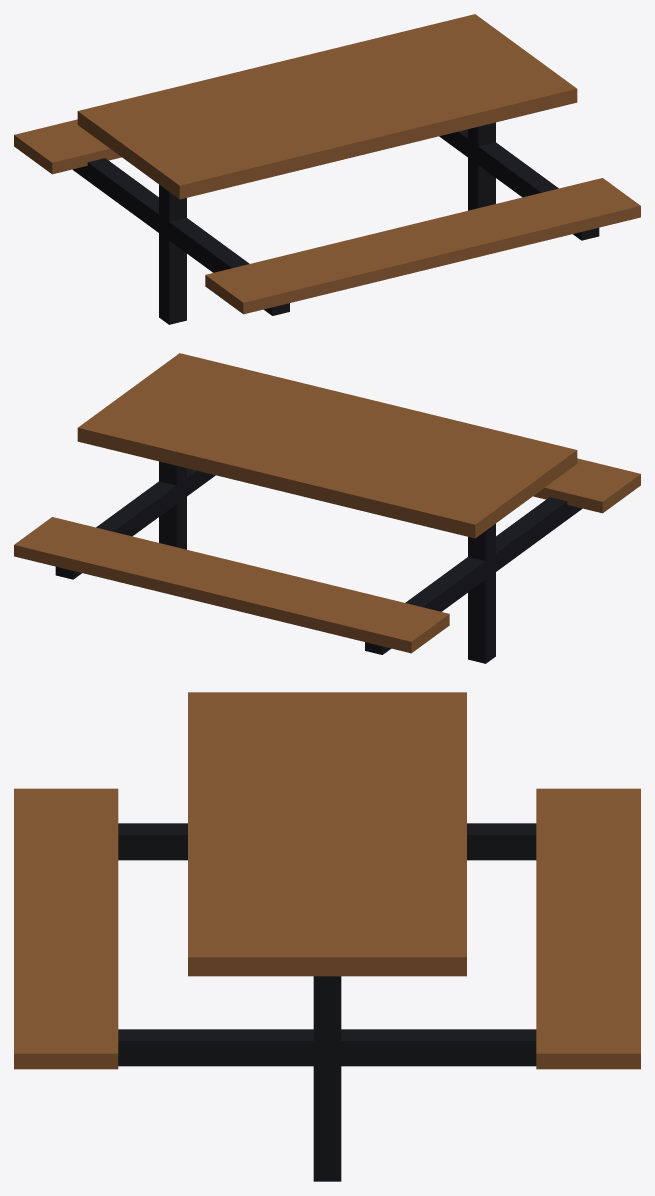
Rendered from prop_picnic_table.glb.
3 renders of one model, top to bottom at view 1: azimuth 30°, elevation 25°; view 2: azimuth 150°, elevation 25°; view 3: azimuth 270°, elevation 25°, orthographic. The views are drawn at different scales.
Visible parts, largest first — view 1: prop_picnic_table__mesh; view 2: prop_picnic_table__mesh; view 3: prop_picnic_table__mesh.
Part boxes in pixels (<box>): prop_picnic_table__mesh: <box>14,14,640,324</box>; prop_picnic_table__mesh: <box>14,353,640,663</box>; prop_picnic_table__mesh: <box>14,692,640,1181</box>.
Bounding box in the file's own units: 1.8 × 0.785 × 1.8.
